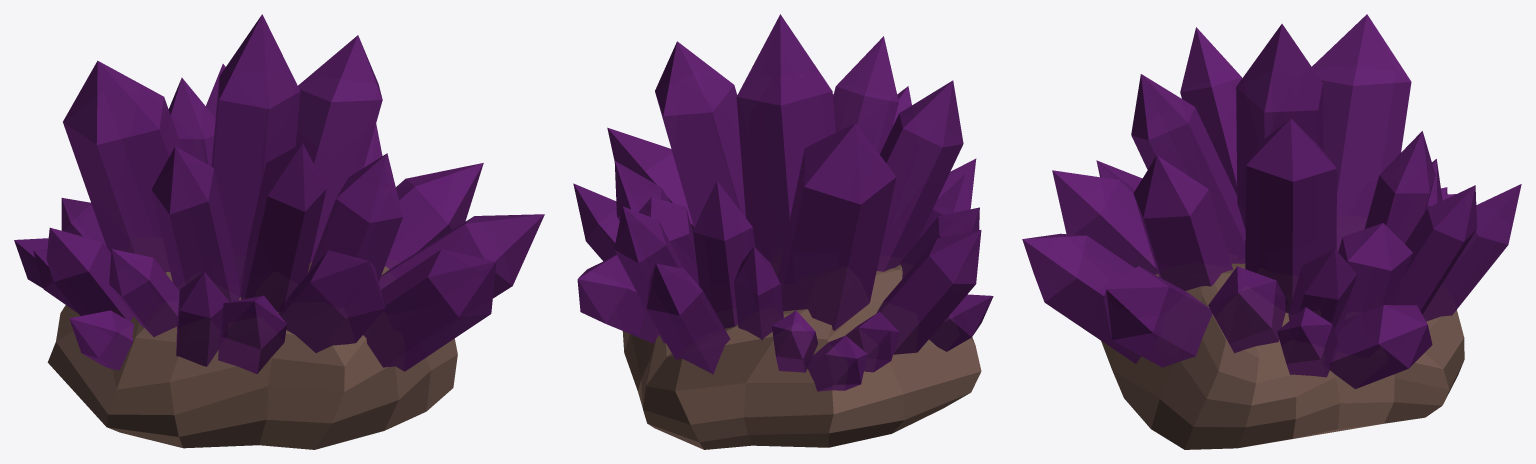
File: Crystal_Cluster_C.fbx
3 renders of one model, left to right at view 1: azimuth 30°, elevation 25°; view 2: azimuth 150°, elevation 25°; view 3: azimuth 270°, elevation 25°, orthographic. The views are drawn at different scales.
Visible parts, largest first — view 1: Rock_A1, Crystal14, Crystal23, pCylinder71, Crystal13, Crystal15, Crystal22, pCylinder69, pCylinder72, Crystal1, Crystal18, Crystal10 (+8 smaller); view 2: Rock_A1, Crystal14, Crystal23, Crystal13, Crystal22, Crystal10, Crystal3, Crystal16, Crystal15, Crystal20, Crystal11, Crystal7 (+11 smaller); view 3: Rock_A1, Crystal14, Crystal13, pCylinder72, Crystal23, Crystal15, Crystal18, pCylinder71, Crystal20, pCylinder69, Crystal11, Crystal22 (+7 smaller).
Boxes of the visible parts, x1,y1,x2,y2 form: Rock_A1: [47, 262, 457, 449]; Crystal14: [63, 60, 182, 272]; Crystal23: [211, 14, 300, 296]; pCylinder71: [363, 249, 496, 371]; Crystal13: [295, 35, 382, 262]; Crystal15: [240, 143, 326, 311]; Crystal22: [151, 146, 240, 301]; pCylinder69: [278, 250, 385, 352]; pCylinder72: [308, 153, 402, 281]; Crystal1: [385, 163, 483, 269]; Crystal18: [379, 214, 544, 298]; Crystal10: [46, 227, 133, 321]; Rock_A1: [622, 264, 981, 449]; Crystal14: [777, 123, 896, 330]; Crystal23: [736, 14, 835, 276]; Crystal13: [655, 41, 745, 228]; Crystal22: [876, 80, 963, 271]; Crystal10: [876, 230, 981, 354]; Crystal3: [646, 263, 730, 374]; Crystal16: [693, 181, 755, 328]; Crystal15: [833, 36, 898, 154]; Crystal20: [577, 255, 659, 343]; Crystal11: [614, 206, 684, 343]; Crystal7: [734, 247, 783, 340]; Rock_A1: [1101, 263, 1464, 449]; Crystal14: [1312, 14, 1411, 251]; Crystal13: [1245, 118, 1336, 313]; pCylinder72: [1133, 155, 1232, 290]; Crystal23: [1236, 24, 1323, 229]; Crystal15: [1131, 74, 1245, 263]; Crystal18: [1103, 266, 1212, 367]; pCylinder71: [1022, 233, 1140, 363]; Crystal20: [1330, 305, 1432, 389]; pCylinder69: [1052, 170, 1157, 274]; Crystal11: [1396, 185, 1476, 314]; Crystal22: [1180, 27, 1242, 195].
Size of the model in its own units: 2.66 by 2.9 by 2.36.
